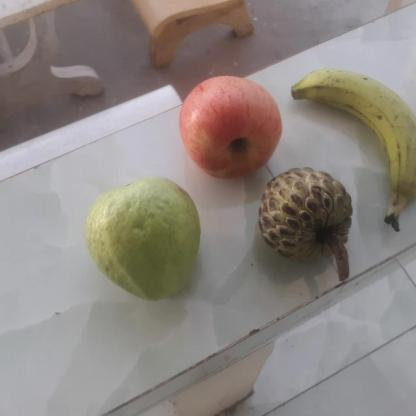annona: (256, 168, 353, 268)
apple: (172, 71, 284, 177)
banana: (290, 62, 416, 205)
guava: (80, 181, 196, 301)
